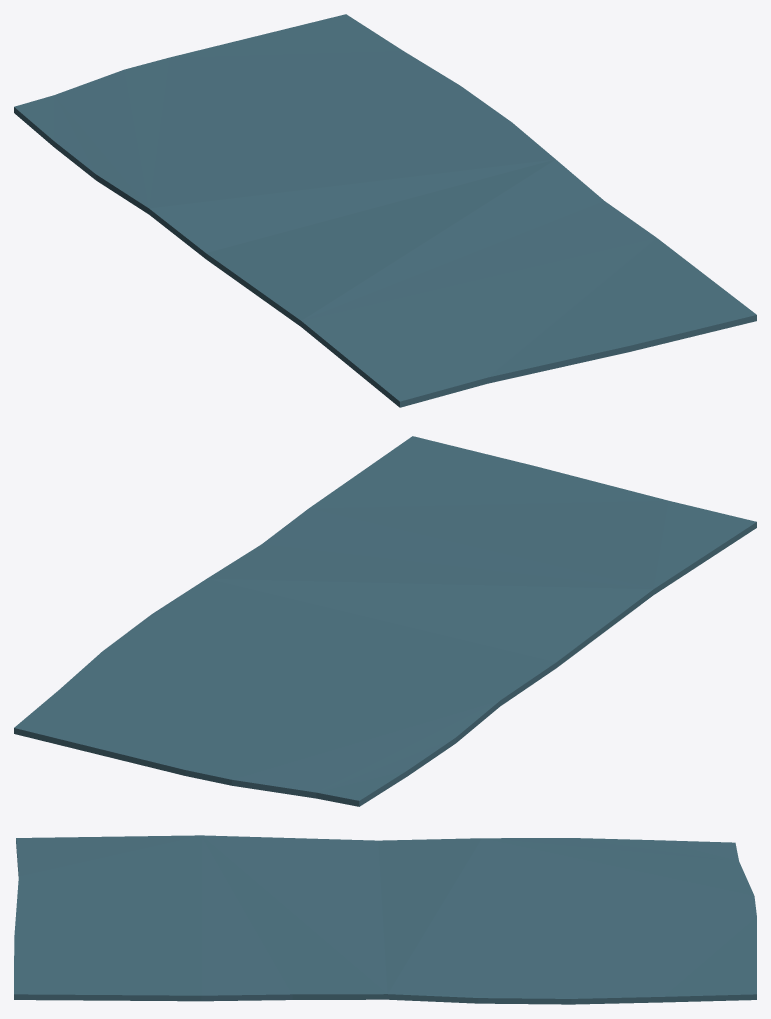
File: SM_Props_City_Beach_Blanket_02.fbx
3 views of the same model, one above another, from view 1: azimuth 30°, elevation 25°; view 2: azimuth 150°, elevation 25°; view 3: azimuth 270°, elevation 25° (orthographic). The views are drawn at different scales.
Visible parts, largest first — view 1: SM_Props_City_Beach_Blanket_02; view 2: SM_Props_City_Beach_Blanket_02; view 3: SM_Props_City_Beach_Blanket_02.
Boxes of the visible parts, <box> form: SM_Props_City_Beach_Blanket_02: <box>14,14,756,407</box>; SM_Props_City_Beach_Blanket_02: <box>14,436,756,806</box>; SM_Props_City_Beach_Blanket_02: <box>14,835,756,1004</box>.
Bounding box in the file's own units: 93.01 × 2.66 × 180.
